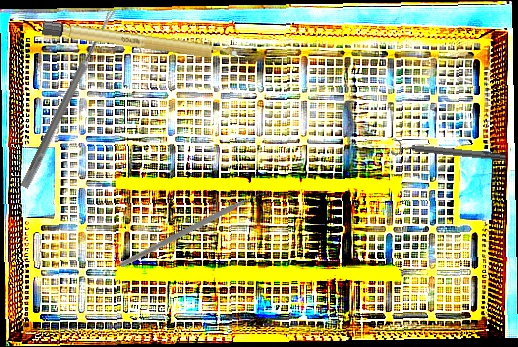Chopper: (118, 147, 274, 317)
Fixation Ring: (390, 137, 506, 167)
Scalpel Handle: (41, 20, 241, 63)
Surgical Spoon: (20, 6, 117, 190)
